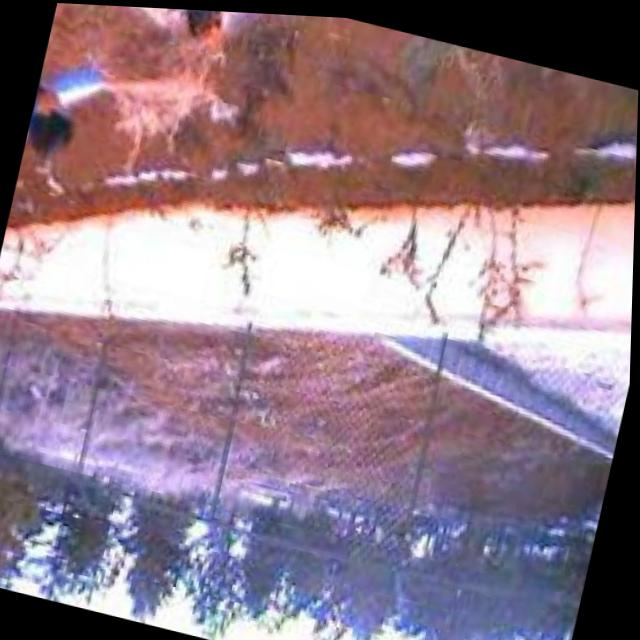Fire: (169, 7, 246, 64)
